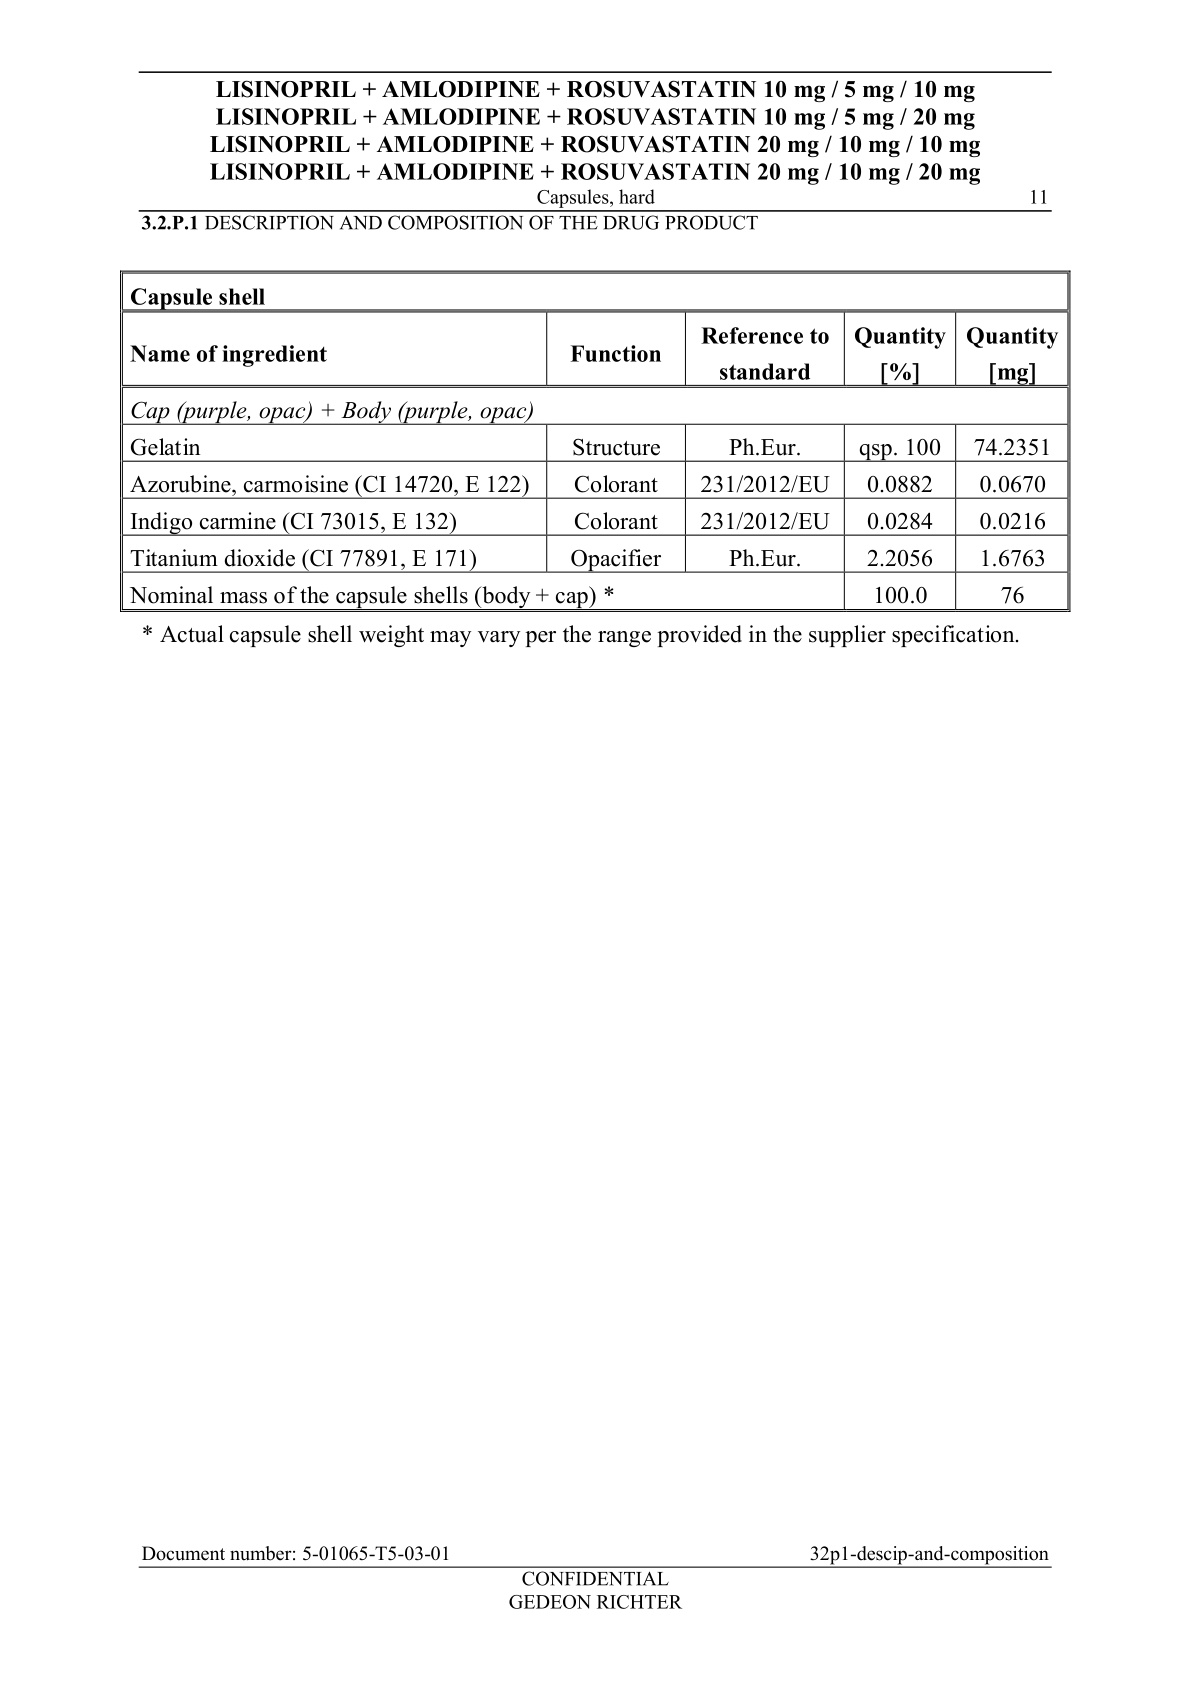merged_cells: (119, 269, 1071, 613)
